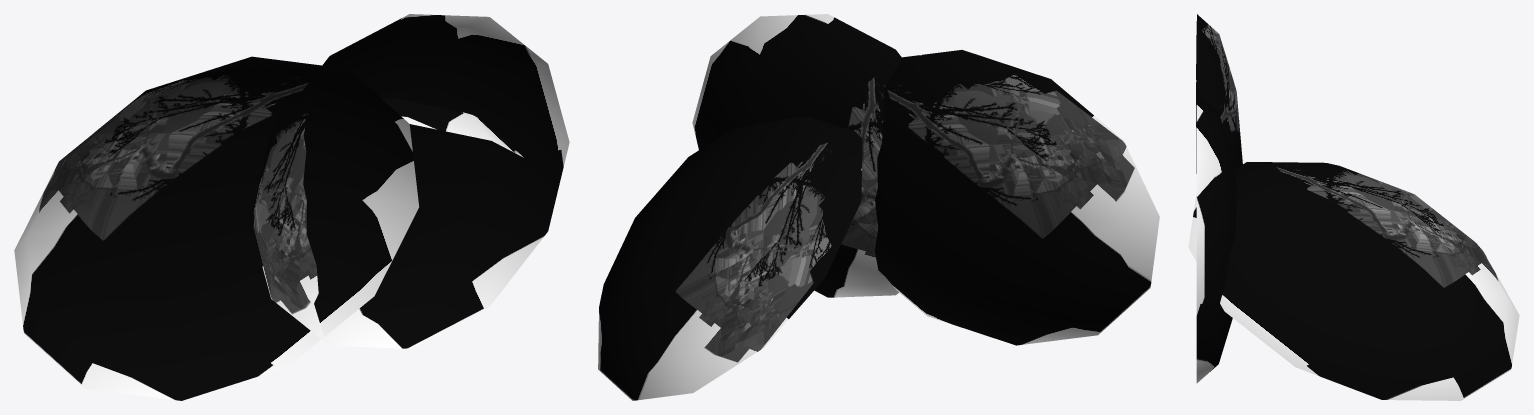
3 views of the same model, side by side, from view 1: azimuth 30°, elevation 25°; view 2: azimuth 150°, elevation 25°; view 3: azimuth 270°, elevation 25° (orthographic). The views are drawn at different scales.
Visible parts, largest first — view 1: root7; view 2: root7; view 3: root7.
Boxes of the visible parts, x1=… form: root7: x1=14, y1=14, x2=569, y2=400; root7: x1=598, y1=14, x2=1159, y2=400; root7: x1=1188, y1=14, x2=1519, y2=400.
Size of the model in its own units: 160 by 91.55 by 104.
